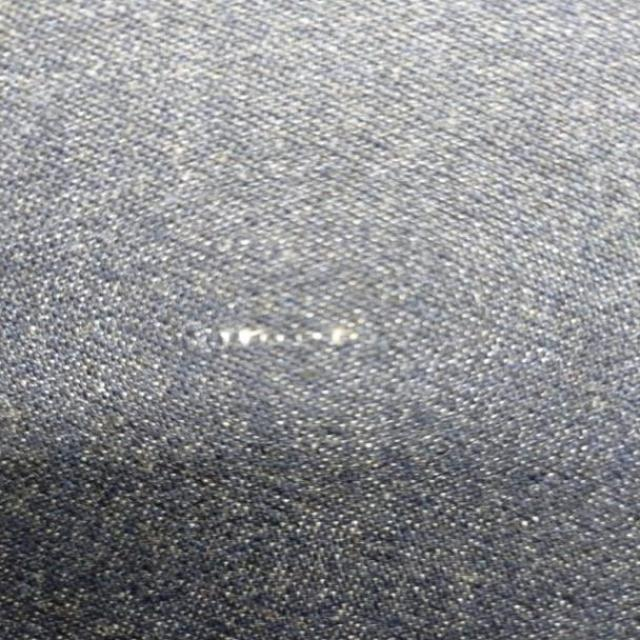Knot: (217, 326, 291, 348), (293, 326, 360, 348)
